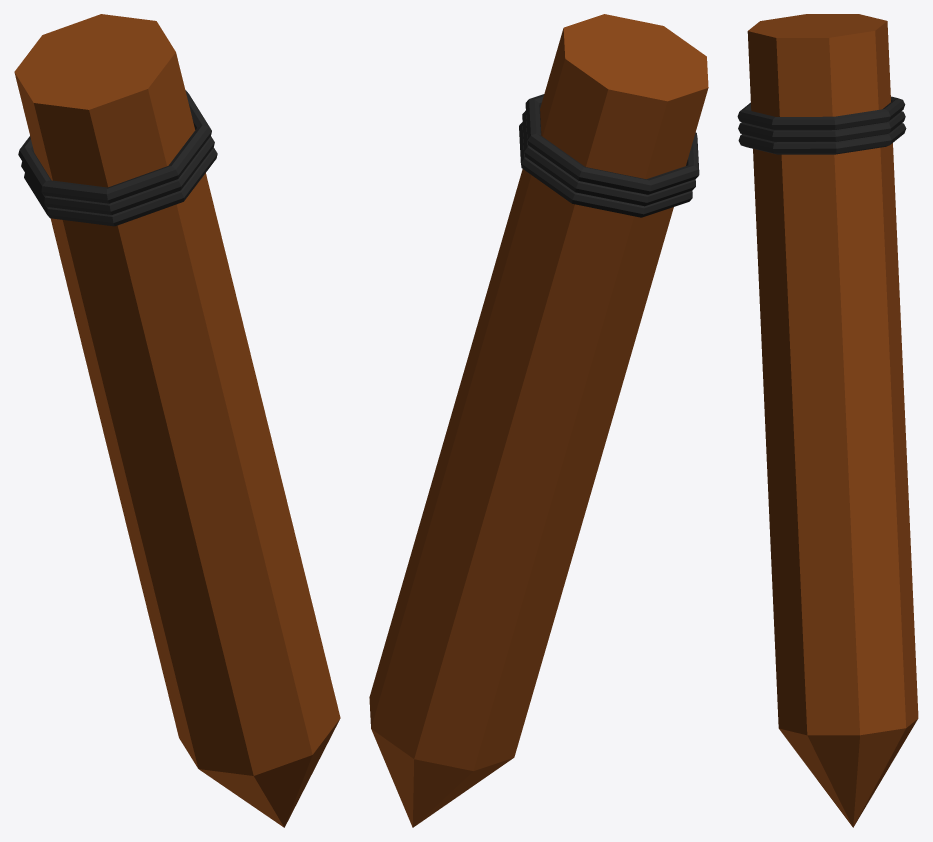
The model's file is Prop_Building_Wooden_Spike_Stake_02.FBX.
3 views of the same model, side by side, from view 1: azimuth 30°, elevation 25°; view 2: azimuth 150°, elevation 25°; view 3: azimuth 270°, elevation 25° (orthographic). The views are drawn at different scales.
Parts seen in each view (by area): view 1: Prop_Building_Wooden_Spike_Stake_02; view 2: Prop_Building_Wooden_Spike_Stake_02; view 3: Prop_Building_Wooden_Spike_Stake_02.
Part boxes in pixels (x1,y1,x2,y2): Prop_Building_Wooden_Spike_Stake_02: (14,14,340,827); Prop_Building_Wooden_Spike_Stake_02: (369,14,708,827); Prop_Building_Wooden_Spike_Stake_02: (737,14,918,827).
Size of the model in its own units: 123 by 314 by 70.48.
